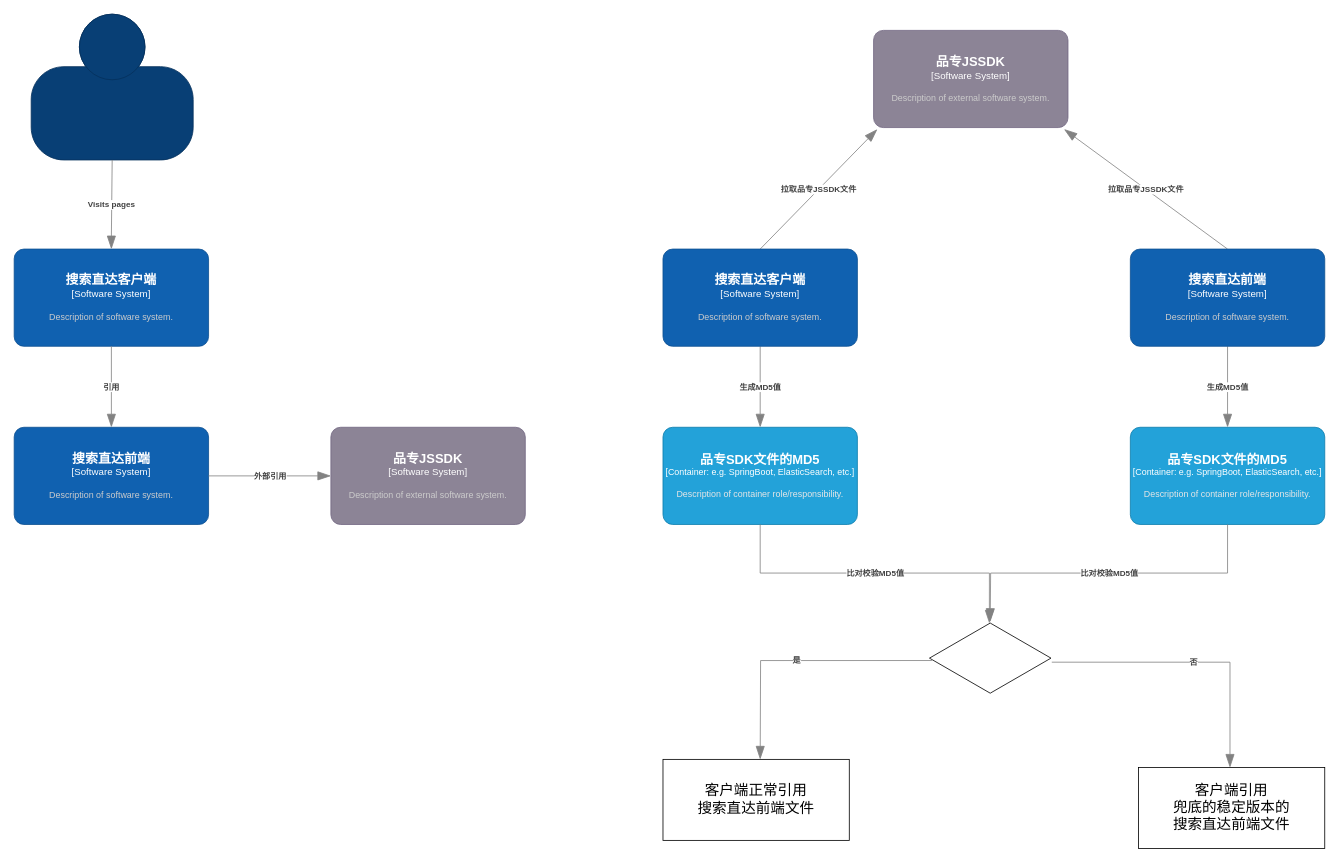
Image size: 1339x863. Some labels were removed from this diagram. The centre of each missing label's shape, as x and y in pixels:
是否一致？: the point at 990,658
浏览器搜索直达 [Person] Description of person.: the point at 111,86
